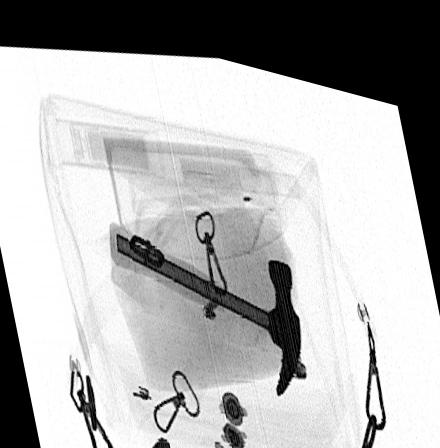Hammer: (107, 214, 300, 383)
